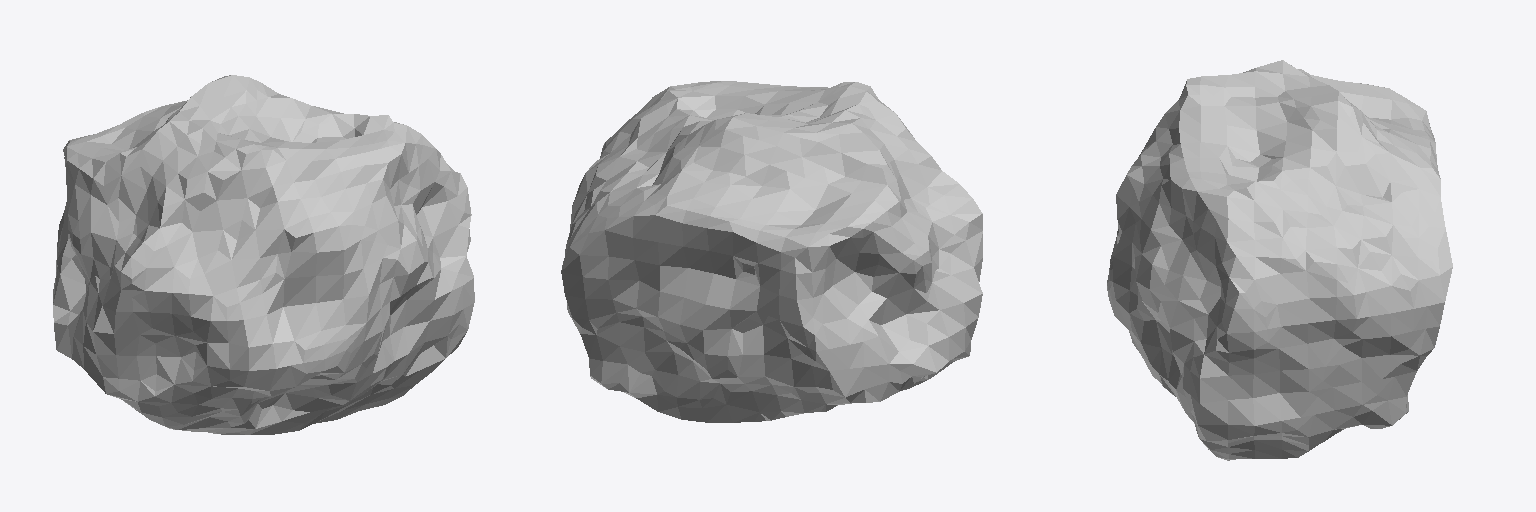
File: Asteroid02.obj
The picture shows the model from 3 angles: view 1: azimuth 30°, elevation 25°; view 2: azimuth 150°, elevation 25°; view 3: azimuth 270°, elevation 25°; orthographic projection.
Visible parts, largest first — view 1: Asteroid02_Low; view 2: Asteroid02_Low; view 3: Asteroid02_Low.
Part boxes in pixels (x1,y1,x2,y2): Asteroid02_Low: (53,75,474,434); Asteroid02_Low: (561,81,982,422); Asteroid02_Low: (1107,60,1452,460).
Bounding box in the file's own units: 5.08 × 4.06 × 4.03.